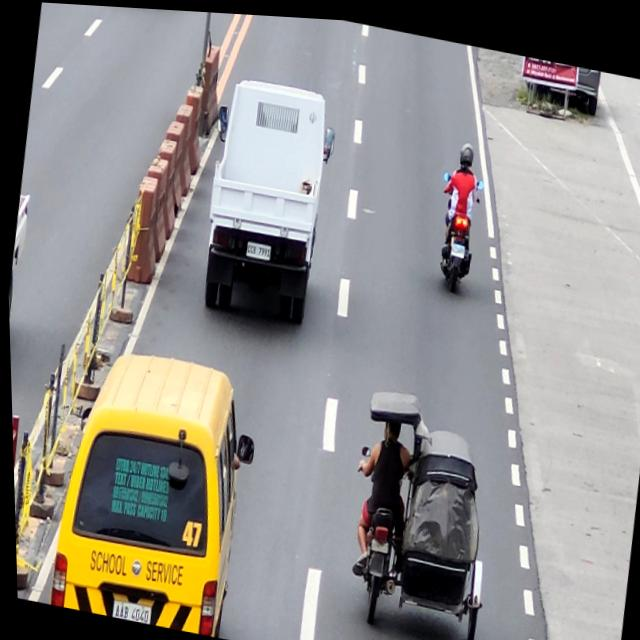Car: (36, 334, 267, 640)
License-Plate: (109, 597, 149, 623), (243, 238, 271, 259), (367, 532, 387, 551), (448, 236, 463, 253)
Motorcycle: (427, 162, 485, 290)
Tricycle: (336, 381, 509, 640)
Truck: (185, 66, 344, 327)
